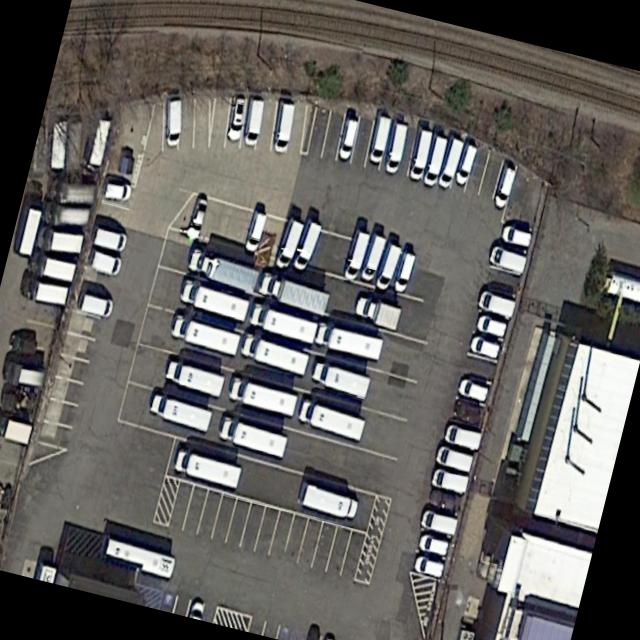large-vehicle: (99, 532, 175, 580), (256, 270, 329, 316), (185, 247, 258, 293), (215, 413, 287, 459), (176, 278, 249, 322), (167, 314, 240, 357), (237, 332, 308, 376), (246, 301, 317, 344), (226, 374, 297, 416), (171, 447, 241, 489), (296, 398, 365, 440), (312, 321, 384, 361), (148, 391, 212, 434), (162, 357, 224, 398), (308, 359, 369, 398), (300, 482, 358, 521), (79, 114, 112, 178), (15, 191, 45, 258), (19, 271, 70, 309), (352, 293, 401, 330), (25, 249, 76, 284), (33, 223, 85, 254), (46, 177, 97, 207), (0, 357, 46, 390), (43, 200, 90, 229), (62, 114, 80, 182), (47, 117, 66, 180), (0, 410, 32, 447)
small-vehicle: (272, 216, 304, 270), (291, 219, 321, 271), (436, 136, 464, 188), (342, 229, 370, 281), (359, 233, 386, 283), (373, 242, 400, 290), (383, 121, 407, 174), (407, 128, 431, 181), (488, 242, 526, 275), (366, 114, 391, 164), (422, 134, 446, 186), (433, 443, 472, 473), (418, 508, 457, 537), (74, 290, 113, 319), (241, 209, 266, 253), (442, 422, 481, 450), (428, 467, 468, 494), (477, 289, 514, 318), (453, 142, 477, 186), (272, 103, 293, 153), (3, 330, 40, 358), (242, 98, 263, 146), (393, 251, 416, 294), (185, 196, 208, 239), (492, 165, 515, 208), (225, 96, 245, 143), (88, 248, 121, 276), (92, 226, 126, 253), (497, 223, 532, 249), (337, 117, 357, 161), (412, 553, 443, 579), (467, 333, 499, 358), (416, 532, 449, 556), (450, 399, 481, 424), (456, 378, 488, 402), (165, 96, 180, 147), (475, 313, 506, 337), (101, 179, 132, 202), (427, 489, 456, 512)
